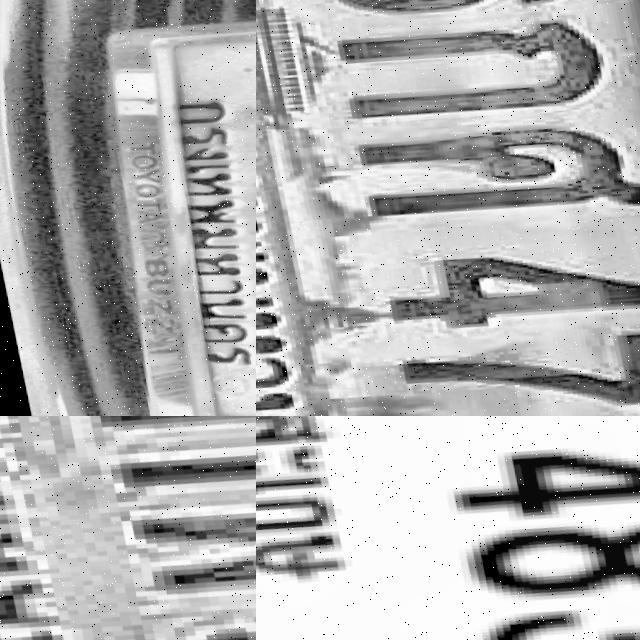license-plate: (256, 0, 640, 416), (30, 0, 256, 416), (256, 416, 640, 640), (0, 416, 256, 640)
